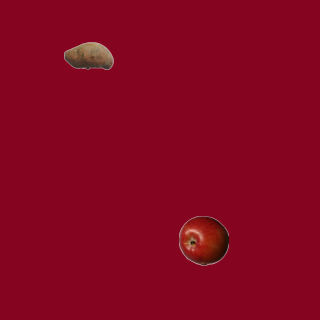Apple Braeburn: (178, 215, 228, 265)
Potato Sweet: (63, 30, 113, 80)
